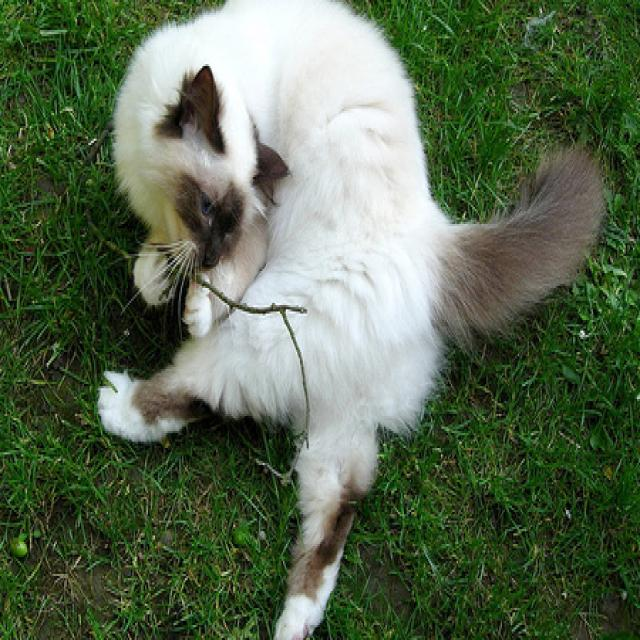Birman: (94, 0, 601, 640)
